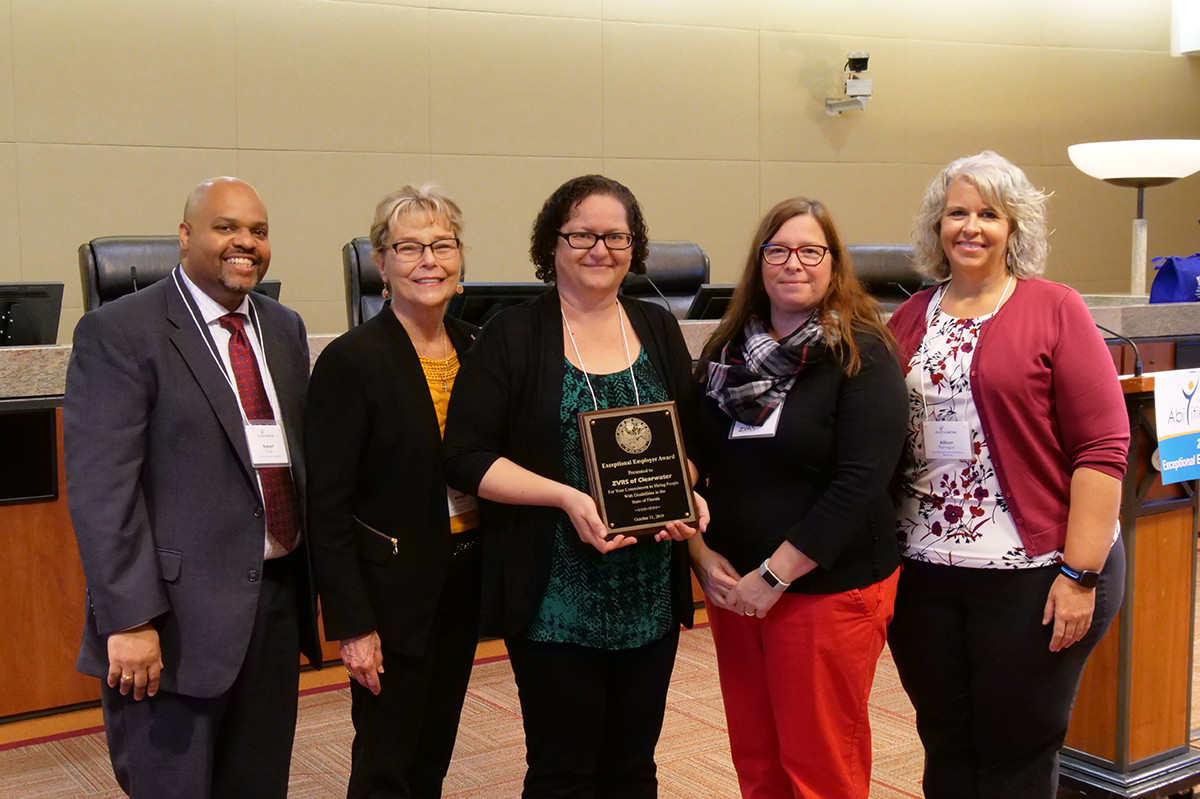person: (39, 168, 333, 793), (497, 168, 702, 792), (909, 154, 1091, 793), (710, 201, 897, 789), (317, 173, 480, 791)
